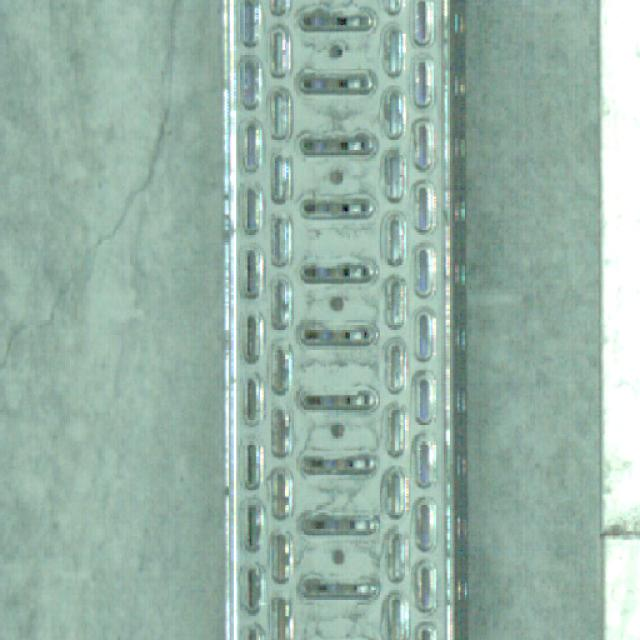Diagonal: (1, 0, 212, 422)
